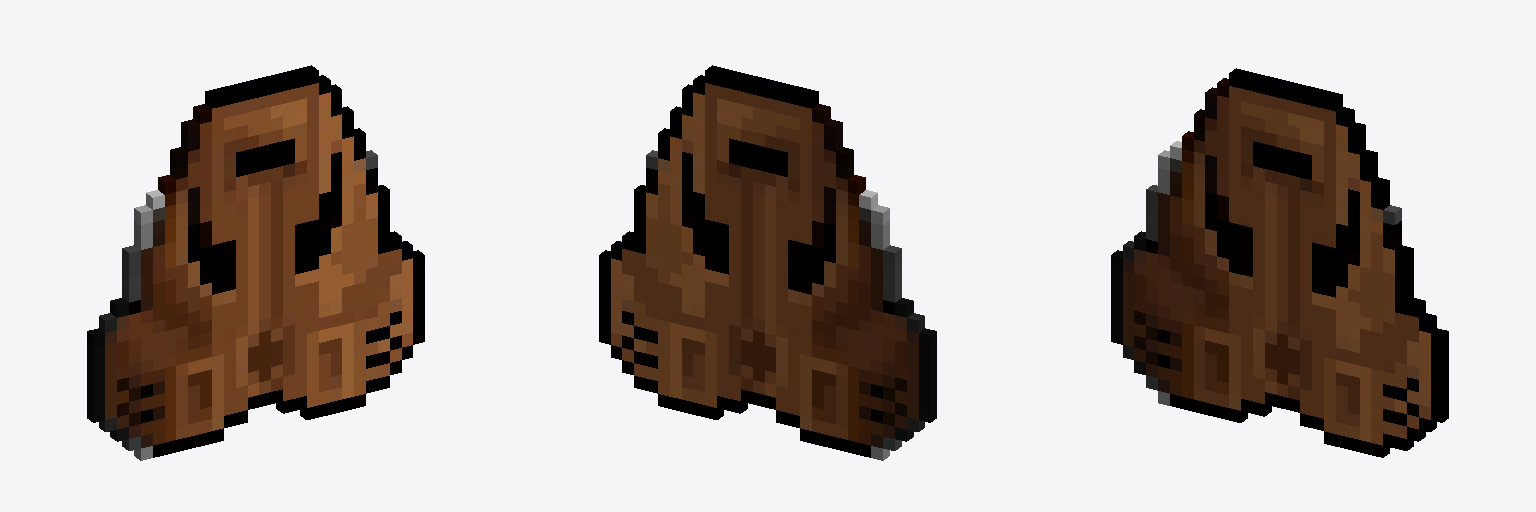
Rendered from kakama.obj.
3 renders of one model, left to right at view 1: azimuth 30°, elevation 25°; view 2: azimuth 150°, elevation 25°; view 3: azimuth 330°, elevation 25°, orthographic.
Size of the model in its own units: 28 by 28 by 1.